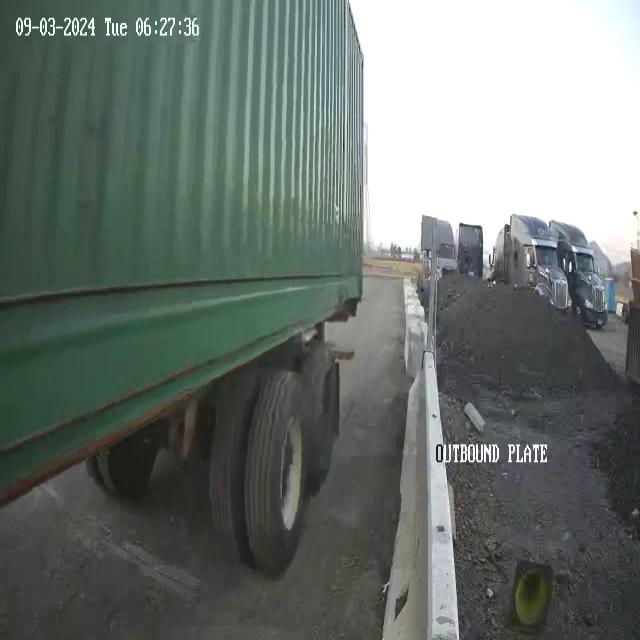TRUCK_CONTAINER: (1, 0, 367, 578)
